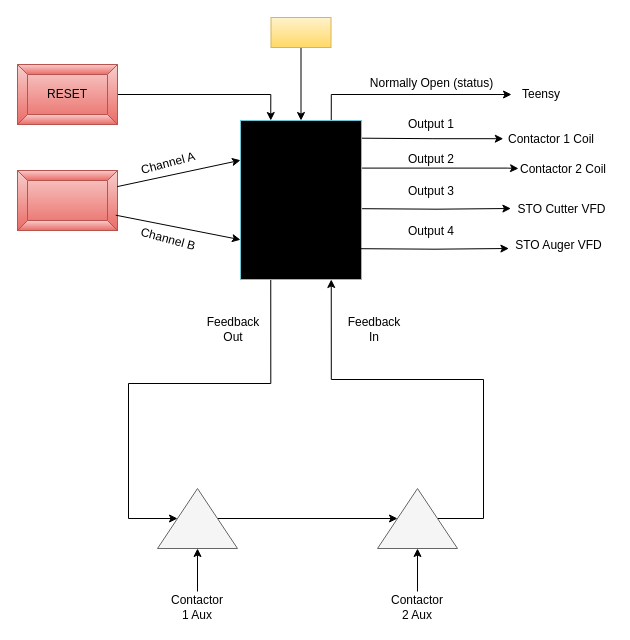
Image size: 630x640. Some labels were removed from this diagram. Here are the shapes that lost their labels. From the top down, the centre of each, then its label:
point 300,32: 24VDC
point 67,200: E-STOP
